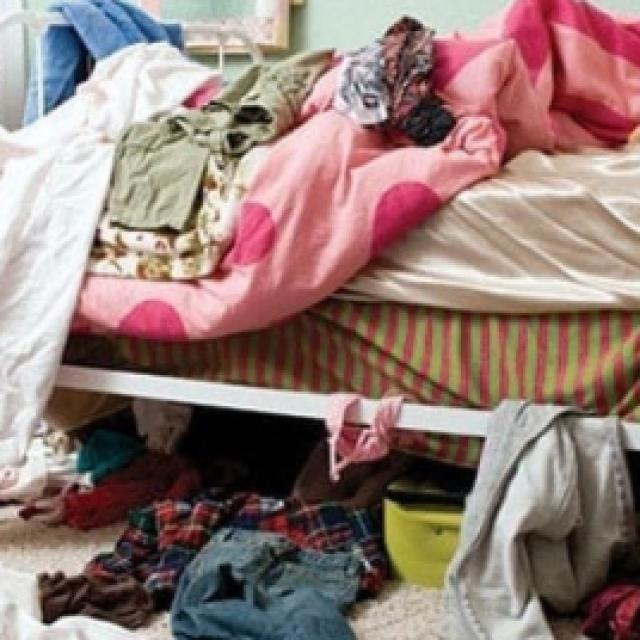mess: (110, 489, 640, 640)
